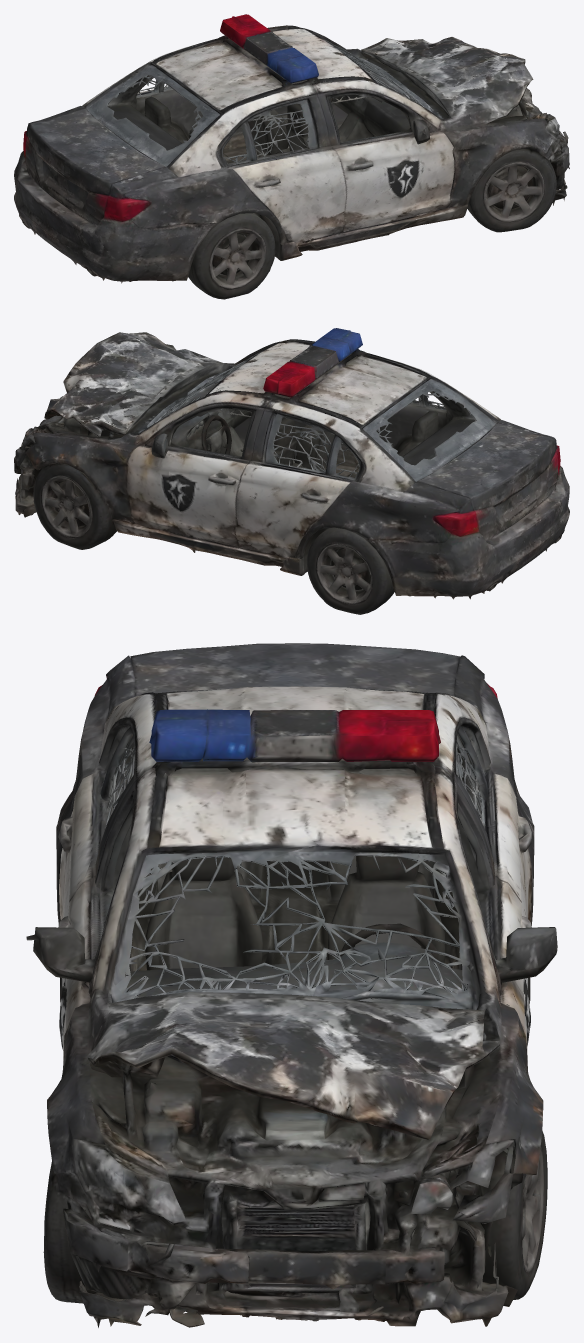
Rendered from burned-police-car-v1.glb.
The picture shows the model from 3 angles, top to bottom: view 1: azimuth 30°, elevation 25°; view 2: azimuth 150°, elevation 25°; view 3: azimuth 270°, elevation 25°; orthographic projection. The views are drawn at different scales.
Parts seen in each view (by area): view 1: tripo_node_84e0e168-597c-4ac7-b420-7e9718472309; view 2: tripo_node_84e0e168-597c-4ac7-b420-7e9718472309; view 3: tripo_node_84e0e168-597c-4ac7-b420-7e9718472309.
Part boxes in pixels (x1=…): tripo_node_84e0e168-597c-4ac7-b420-7e9718472309: x1=14, y1=14, x2=569, y2=299; tripo_node_84e0e168-597c-4ac7-b420-7e9718472309: x1=14, y1=328, x2=569, y2=614; tripo_node_84e0e168-597c-4ac7-b420-7e9718472309: x1=26, y1=643, x2=557, y2=1327.
Size of the model in its own units: 0.9798 by 0.3693 by 0.4604.
Materials: 1 (1 with a texture image).
